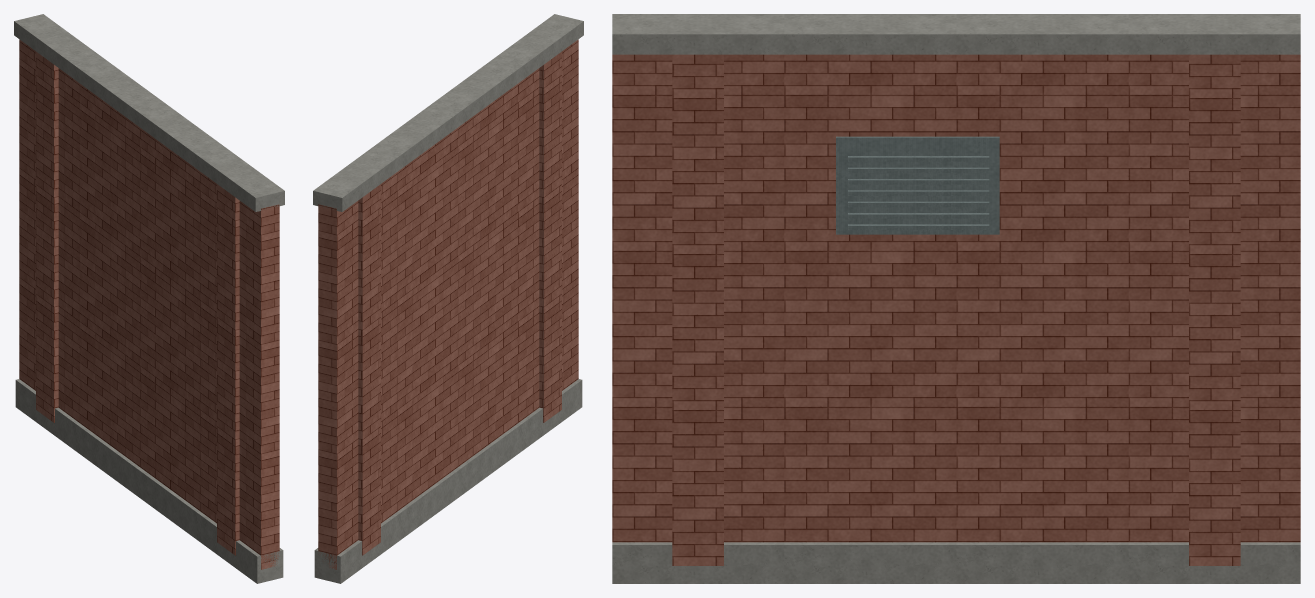
Rendered from PZ_Alley_Wall_BrickLeft_4M.glb.
3 views of the same model, side by side, from view 1: azimuth 30°, elevation 25°; view 2: azimuth 150°, elevation 25°; view 3: azimuth 270°, elevation 25° (orthographic). The views are drawn at different scales.
Visible parts, largest first — view 1: WallL_BrickWall_Main, WallL_Coping, WallL_ReinforcedPier_1, WallL_ReinforcedPier_2, WallL_Footing; view 2: WallL_BrickWall_Main, WallL_Coping, WallL_ReinforcedPier_2, WallL_ReinforcedPier_1, WallL_Footing; view 3: WallL_BrickWall_Main, WallL_Coping, WallL_ReinforcedPier_1, WallL_ReinforcedPier_2, WallL_Footing, WallL_VentFrame, WallL_VentLouver_2, WallL_VentLouver_5.
Boxes of the visible parts, x1,y1,x2,y2 form: WallL_BrickWall_Main: (19, 39, 279, 569); WallL_Coping: (14, 14, 284, 211); WallL_ReinforcedPier_1: (217, 184, 239, 555); WallL_ReinforcedPier_2: (36, 51, 58, 422); WallL_Footing: (15, 379, 283, 583); WallL_BrickWall_Main: (318, 39, 578, 569); WallL_Coping: (313, 14, 583, 211); WallL_ReinforcedPier_2: (358, 184, 380, 555); WallL_ReinforcedPier_1: (539, 51, 561, 422); WallL_Footing: (314, 379, 582, 583); WallL_BrickWall_Main: (612, 54, 1300, 542); WallL_Coping: (612, 14, 1300, 54); WallL_ReinforcedPier_1: (672, 54, 723, 565); WallL_ReinforcedPier_2: (1189, 54, 1240, 565); WallL_Footing: (612, 542, 1300, 583); WallL_VentFrame: (836, 136, 999, 234); WallL_VentLouver_2: (848, 201, 989, 207); WallL_VentLouver_5: (848, 167, 989, 173).
Bounding box in the file's own units: 0.29 × 3.53 × 4.
Materials: 3 (3 with a texture image).
